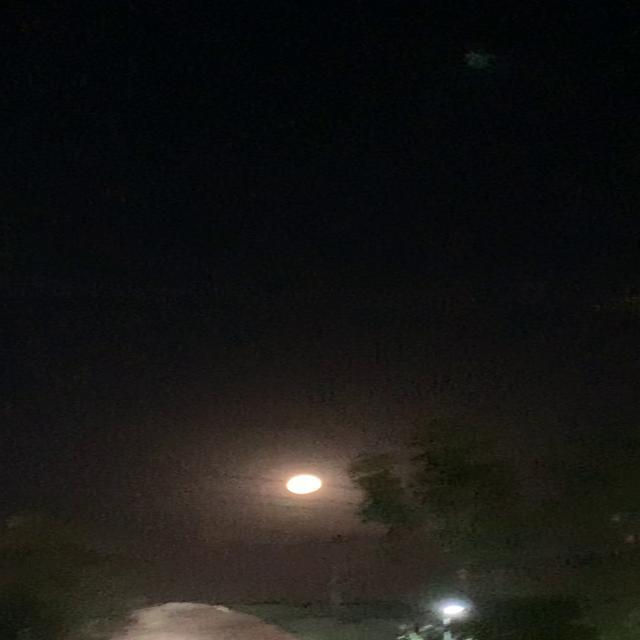moon: (268, 474, 320, 500)
